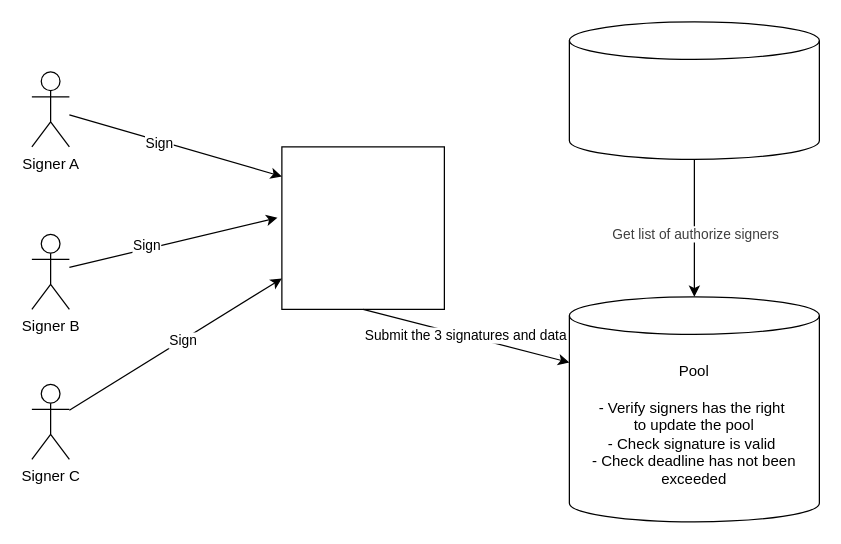
Image size: 841x544. Some labels were removed from this diagram. Here are the shapes that lost their labels. From the top down, the centre of each, then its label:
At (693,90): "Factory".
At (362,227): "Frontend Data : - Verification Key - Deadline - Pool address - Token Id".
